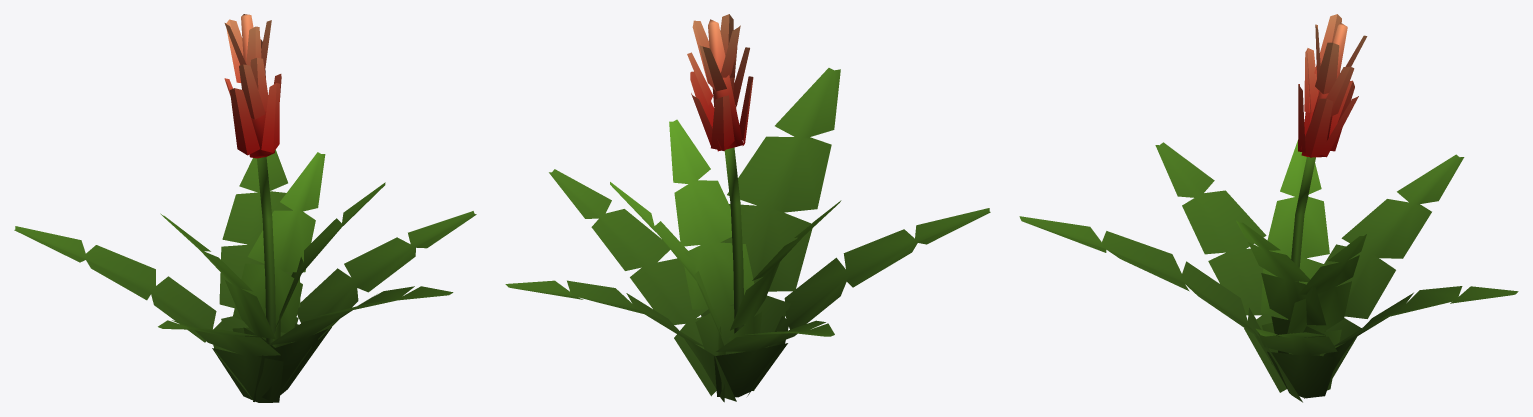
File: ENV1110002.FBX
3 views of the same model, side by side, from view 1: azimuth 30°, elevation 25°; view 2: azimuth 150°, elevation 25°; view 3: azimuth 270°, elevation 25° (orthographic). The views are drawn at different scales.
Parts seen in each view (by area): view 1: smENV1110002; view 2: smENV1110002; view 3: smENV1110002.
Part boxes in pixels (box(x1,y1,x2,y2)): smENV1110002: box(14, 14, 476, 402); smENV1110002: box(505, 14, 990, 402); smENV1110002: box(1019, 14, 1518, 402).
Size of the model in its own units: 38.73 by 36.89 by 45.28.
Materials: 1 (1 with a texture image).
